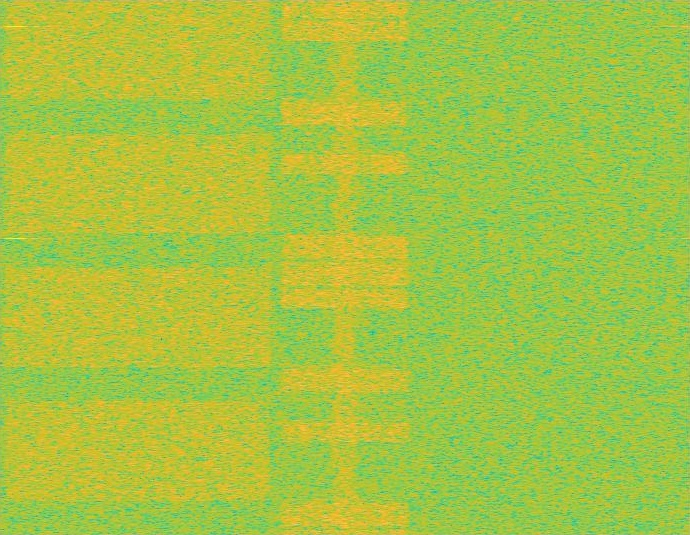5G: (0, 0, 276, 534)
DSSS: (329, 0, 361, 534)
LTE: (276, 0, 414, 534)
Radar: (9, 0, 22, 534)
